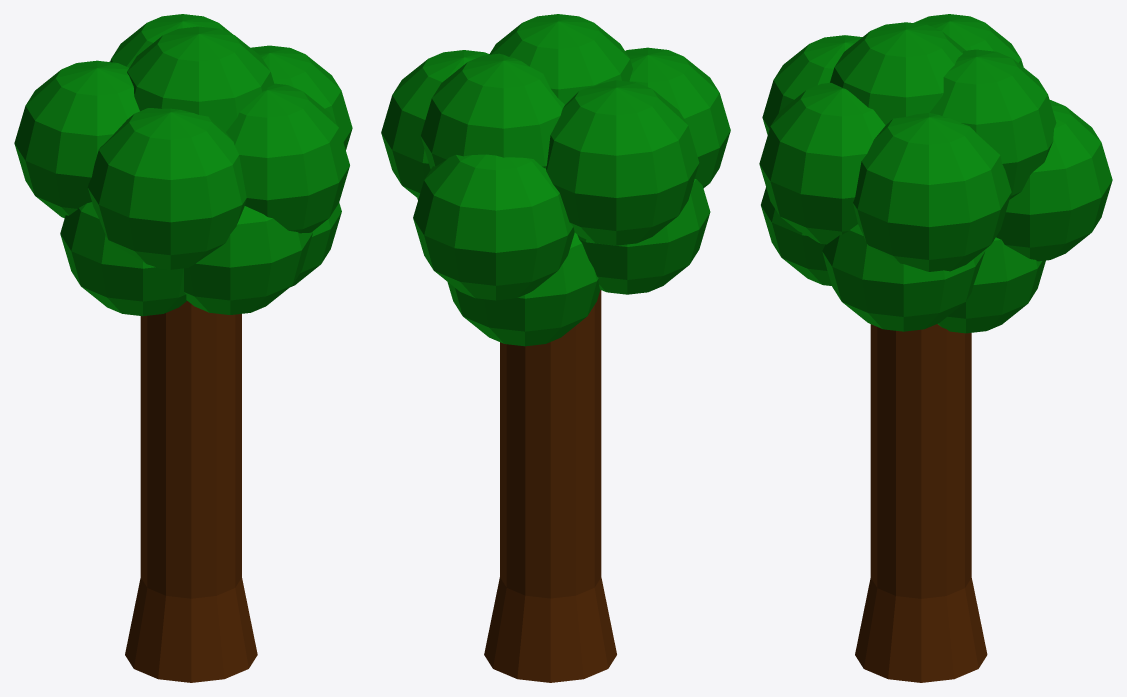
The model's file is Tree 2.fbx.
The picture shows the model from 3 angles, left to right: view 1: azimuth 30°, elevation 25°; view 2: azimuth 150°, elevation 25°; view 3: azimuth 270°, elevation 25°; orthographic projection.
Visible parts, largest first — view 1: Sphere, Cylinder; view 2: Sphere, Cylinder; view 3: Sphere, Cylinder.
Boxes of the visible parts, <box> form: Sphere: <box>14,14,352,316</box>; Cylinder: <box>125,301,257,682</box>; Sphere: <box>381,14,730,346</box>; Cylinder: <box>484,290,616,682</box>; Sphere: <box>759,14,1112,333</box>; Cylinder: <box>855,324,987,682</box>.
Bounding box in the file's own units: 426 × 834 × 427.
